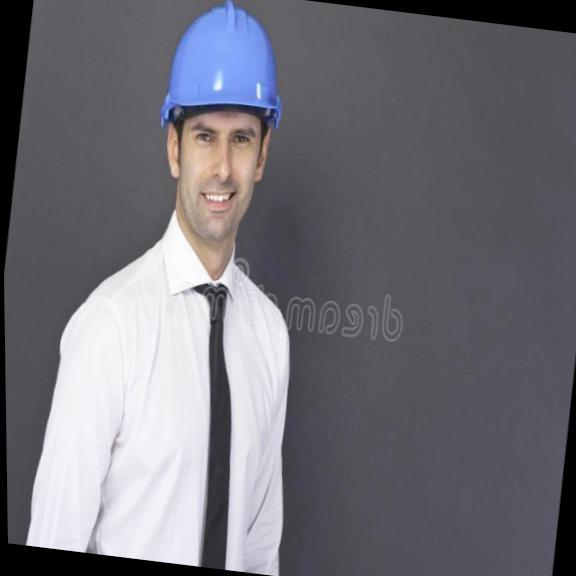no_safety_vest: (18, 229, 322, 576)
